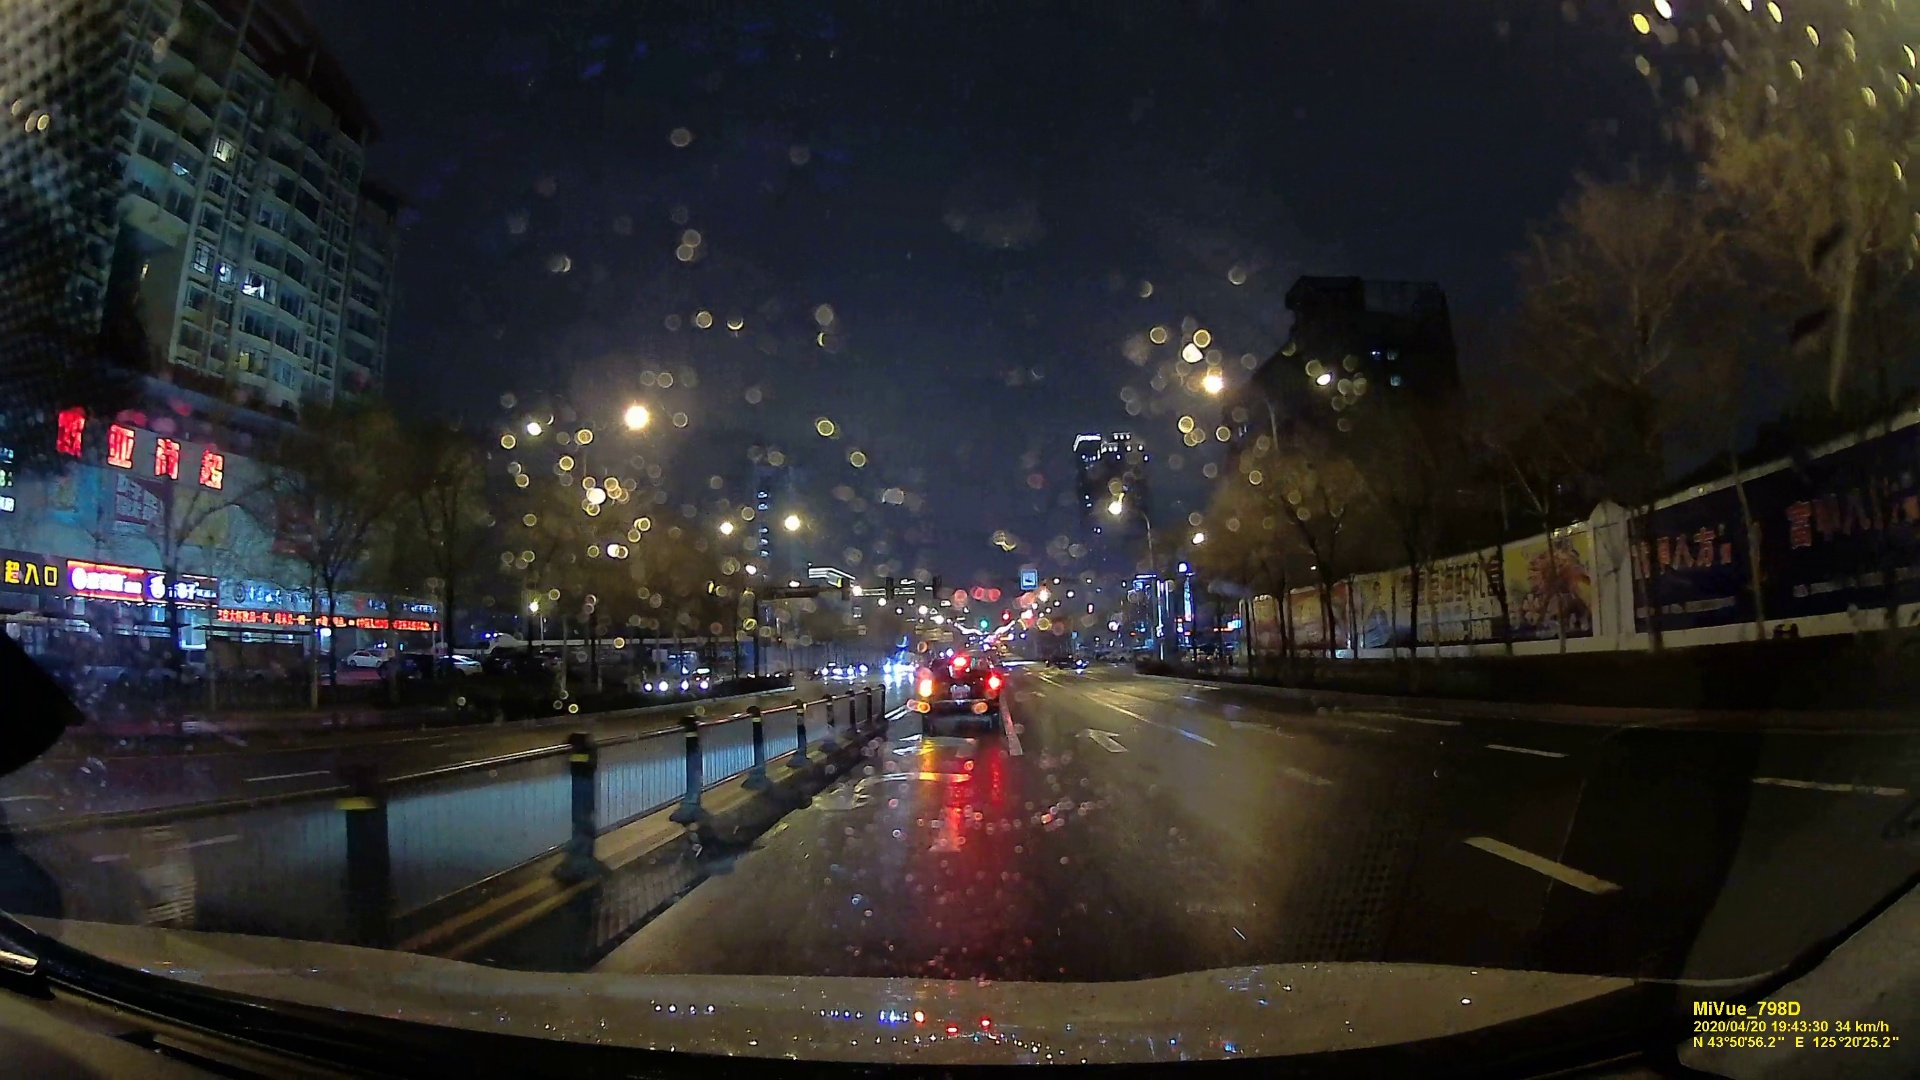vehicle: (919, 655, 997, 732), (680, 669, 723, 692)
